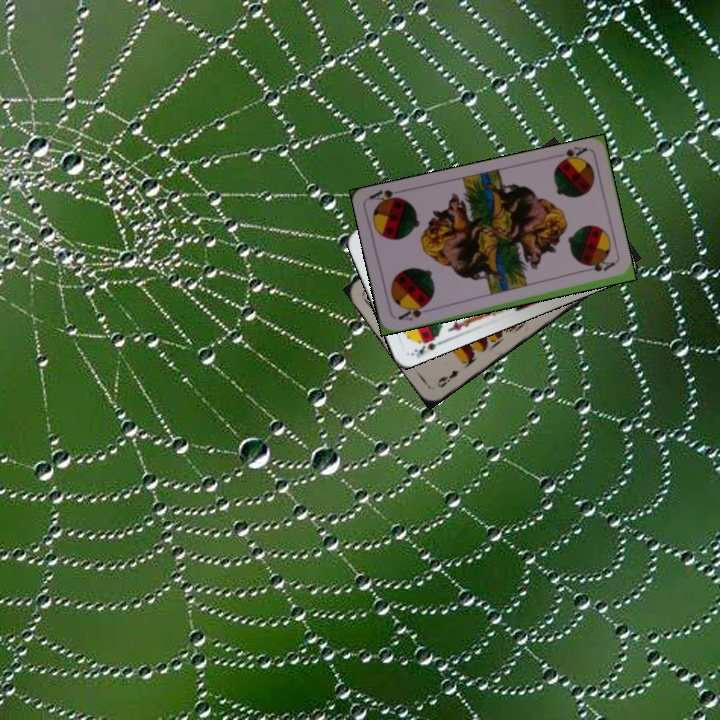E9: (433, 366, 461, 390)
SA: (553, 143, 590, 168), (394, 300, 431, 323)
SK: (407, 329, 446, 359)
